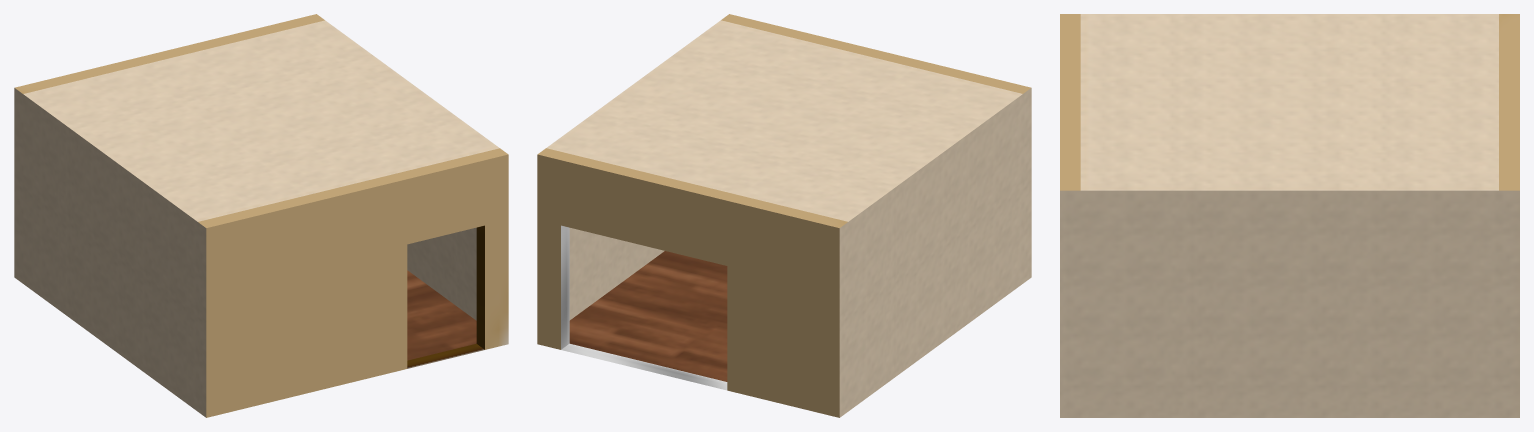
Rendered from room.fbx.
3 renders of one model, left to right at view 1: azimuth 30°, elevation 25°; view 2: azimuth 150°, elevation 25°; view 3: azimuth 270°, elevation 25°, orthographic. The views are drawn at different scales.
Parts seen in each view (by area): view 1: room; view 2: room; view 3: room.
Part boxes in pixels (x1=…): room: x1=14, y1=14, x2=508, y2=417; room: x1=537, y1=14, x2=1031, y2=417; room: x1=1060, y1=14, x2=1519, y2=417.
Bounding box in the file's own units: 25 × 15 × 27.5.
